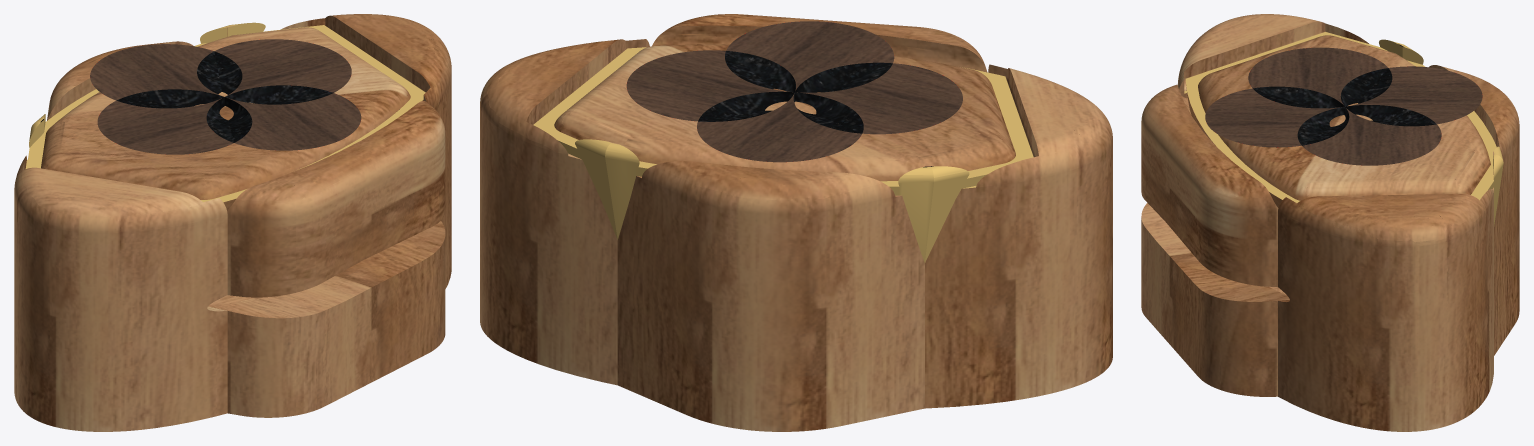
The picture shows the model from 3 angles, left to right: view 1: azimuth 30°, elevation 25°; view 2: azimuth 150°, elevation 25°; view 3: azimuth 270°, elevation 25°; orthographic projection. The views are drawn at different scales.
Visible parts, largest first — view 1: mesh_0, mesh_3, mesh_2, mesh_5, mesh_6; view 2: mesh_0, mesh_3, mesh_6, mesh_2, mesh_5; view 3: mesh_0, mesh_3, mesh_2, mesh_5, mesh_6.
Boxes of the visible parts, left/top/right/bottom form: mesh_0: left=14, top=14, right=451, bottom=431; mesh_3: left=90, top=39, right=361, bottom=154; mesh_2: left=117, top=51, right=332, bottom=142; mesh_5: left=25, top=25, right=425, bottom=202; mesh_6: left=29, top=22, right=265, bottom=147; mesh_0: left=480, top=14, right=1112, bottom=431; mesh_3: left=626, top=21, right=962, bottom=162; mesh_6: left=558, top=139, right=986, bottom=262; mesh_2: left=698, top=51, right=892, bottom=133; mesh_5: left=533, top=47, right=1033, bottom=188; mesh_0: left=1141, top=14, right=1519, bottom=431; mesh_3: left=1205, top=47, right=1482, bottom=165; mesh_2: left=1253, top=68, right=1436, bottom=145; mesh_5: left=1184, top=32, right=1496, bottom=202; mesh_6: left=1379, top=39, right=1503, bottom=226.
Bounding box in the file's own units: 0.1146 × 0.052 × 0.0833.
7 materials, 3 textured.
